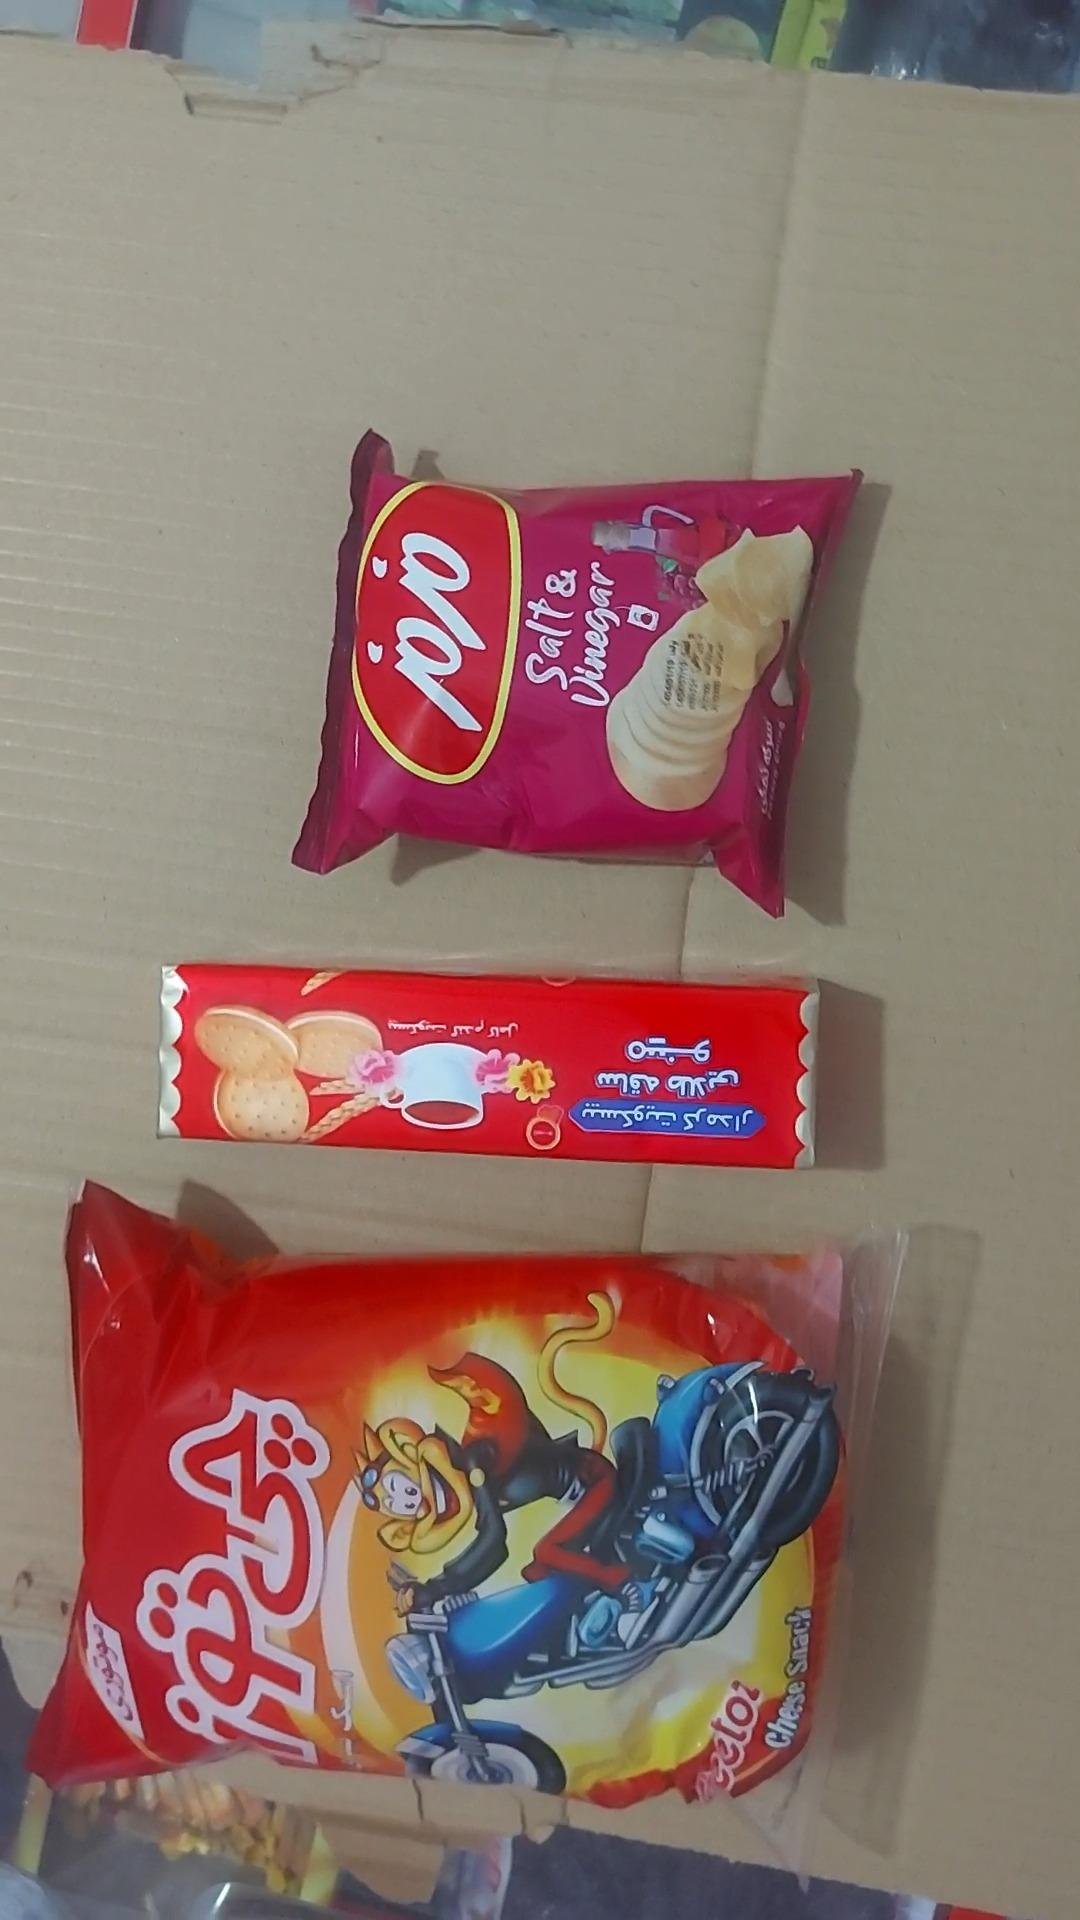Cheetoz snack 90g: (28, 1183, 849, 1873)
Maz Maz vinegar chips: (291, 433, 858, 920)
Minoo cream biscuit: (160, 964, 822, 1168)
